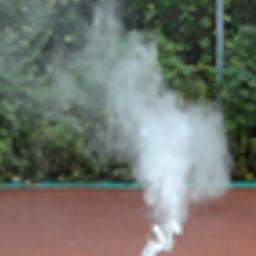smoke: (0, 0, 231, 255)
